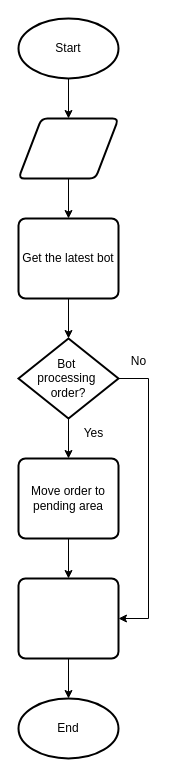
Image size: 175x776. Some labels were removed from this diagram. The box of each missing label's shape, as (x1, y1, x2, y2) in pixels:
Destroy the bot: (17, 577, 119, 659)
Remove a bot: (17, 117, 119, 179)
